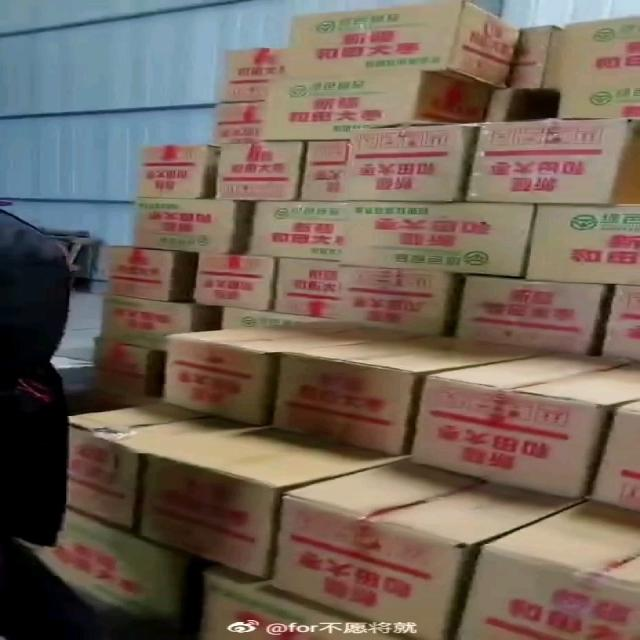box: (270, 459, 586, 640), (137, 428, 412, 579), (273, 333, 560, 454), (411, 351, 637, 498), (161, 319, 436, 426), (66, 402, 270, 531), (457, 501, 639, 639), (284, 1, 521, 89), (15, 506, 183, 629), (200, 565, 443, 639), (258, 71, 494, 140), (339, 201, 535, 277), (466, 118, 639, 203), (458, 275, 607, 355), (339, 126, 477, 201), (526, 204, 637, 285), (338, 265, 462, 337), (559, 16, 639, 118), (134, 197, 258, 254), (102, 295, 222, 350), (250, 202, 348, 260), (590, 400, 639, 512), (108, 247, 199, 301), (217, 142, 302, 199), (195, 251, 275, 311), (139, 143, 222, 198), (92, 339, 167, 396), (269, 258, 337, 319), (502, 26, 563, 89), (600, 285, 639, 359), (301, 141, 346, 202), (221, 307, 332, 329), (225, 47, 288, 82), (215, 102, 265, 144), (222, 77, 268, 103)
